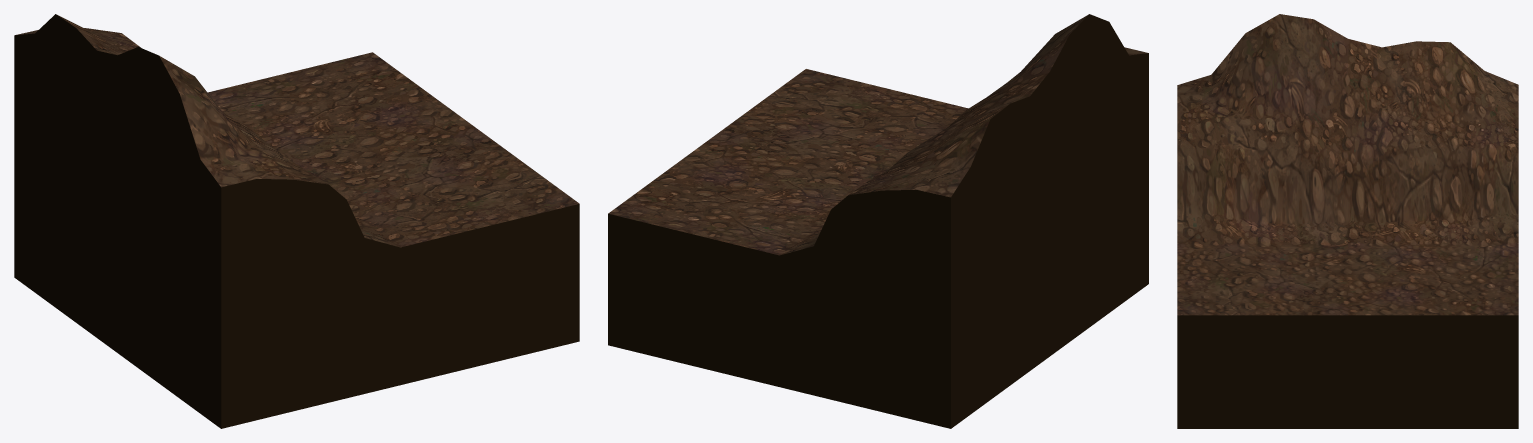
Rendered from DirtRoad.fbx.
3 renders of one model, left to right at view 1: azimuth 30°, elevation 25°; view 2: azimuth 150°, elevation 25°; view 3: azimuth 270°, elevation 25°, orthographic. The views are drawn at different scales.
Visible parts, largest first — view 1: pPlane1; view 2: pPlane1; view 3: pPlane1.
Part boxes in pixels (<box>): pPlane1: <box>14,14,579,428</box>; pPlane1: <box>608,14,1148,428</box>; pPlane1: <box>1177,14,1518,428</box>.
Size of the model in its own units: 27.25 by 23.81 by 27.25.
